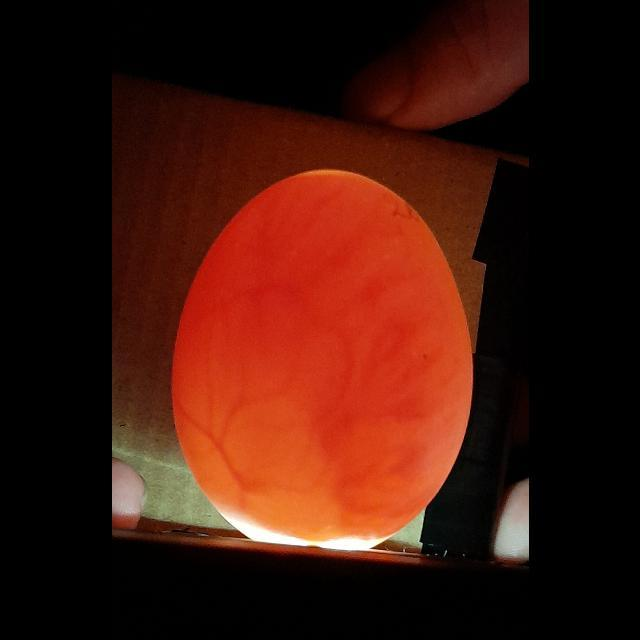Fertile: (163, 164, 482, 552)
